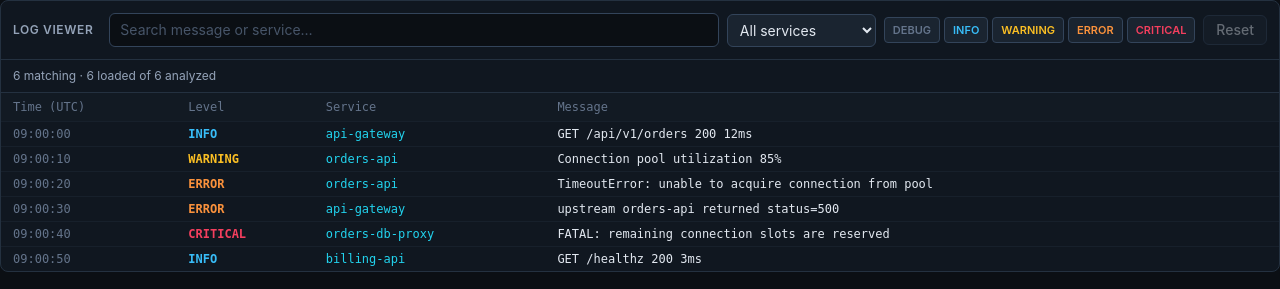
Test: LogViewer › shows an empty state when nothing matches
Type "zzz-no-match" into the search field named "Search logs" at (414, 30), box [109,13,719,47]
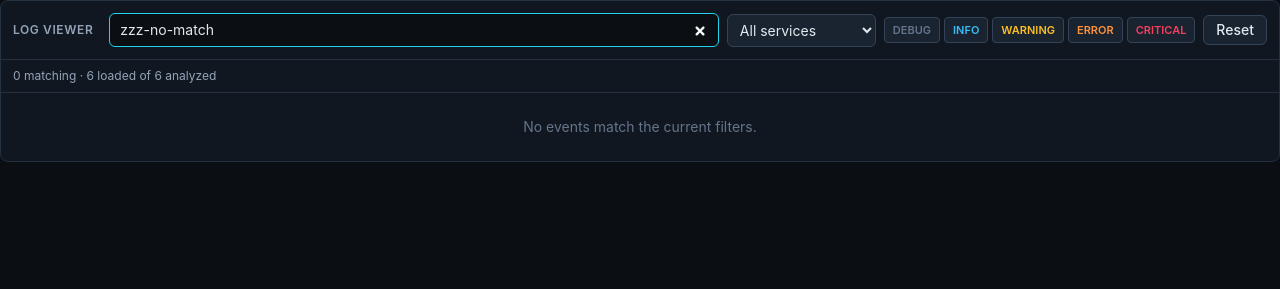
Result: no rows with test id "log-row" are shown
Result: the text "No events match the current filters." is shown at [523,118,757,135]
